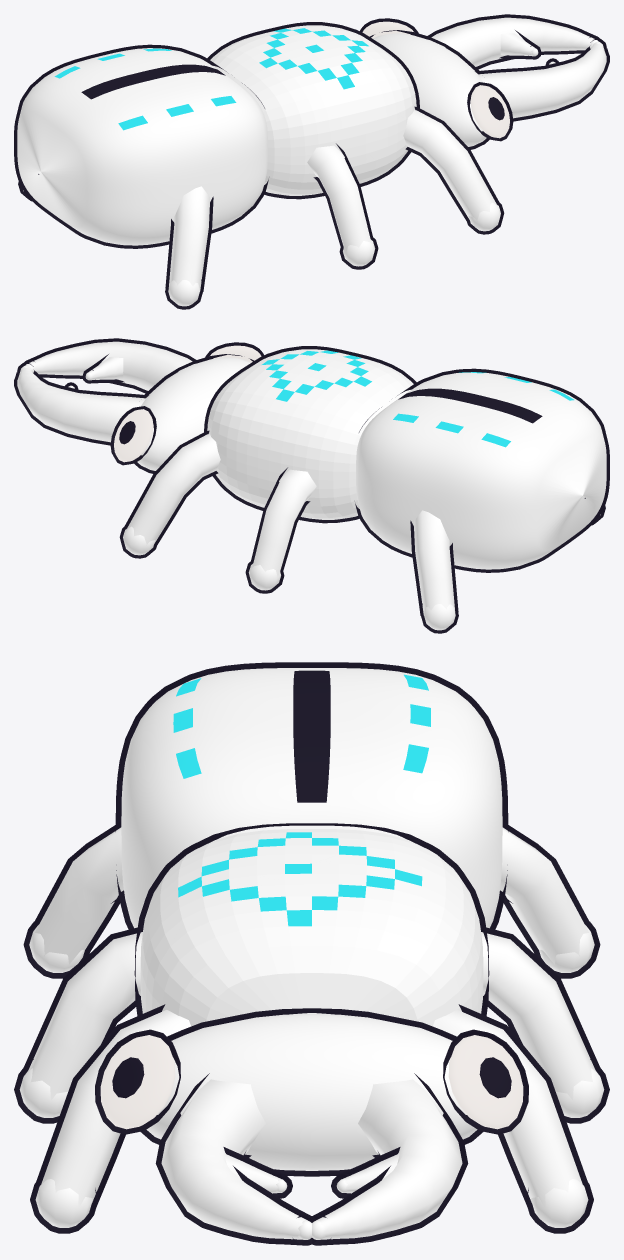
The model's file is stag_corpse.glb.
3 renders of one model, top to bottom at view 1: azimuth 30°, elevation 25°; view 2: azimuth 150°, elevation 25°; view 3: azimuth 270°, elevation 25°, orthographic. The views are drawn at different scales.
Visible parts, largest first — view 1: Abdomen, Thorax, Head, HeadInk, ThoraxInk, AbdomenInk; view 2: Abdomen, Thorax, Head, HeadInk, ThoraxInk, AbdomenInk; view 3: Thorax, Abdomen, Head, ThoraxInk, HeadInk, AbdomenInk.
Part boxes in pixels (x1,y1,x2,y2): Abdomen: (17, 48, 267, 306); Thorax: (210, 25, 500, 266); Head: (362, 17, 606, 146); HeadInk: (360, 14, 609, 149); ThoraxInk: (207, 22, 504, 269); AbdomenInk: (14, 44, 268, 309); Abdomen: (356, 372, 606, 630); Thorax: (123, 349, 413, 590); Head: (17, 341, 261, 470); HeadInk: (14, 338, 263, 473); ThoraxInk: (119, 346, 416, 593); AbdomenInk: (355, 368, 609, 633); Thorax: (19, 829, 604, 1227); Abdomen: (29, 668, 594, 972); Head: (100, 1014, 523, 1239); ThoraxInk: (14, 823, 609, 1233); HeadInk: (95, 1008, 528, 1245); AbdomenInk: (23, 662, 600, 978).
Size of the model in its own units: 3.55 by 1.04 by 1.88.
